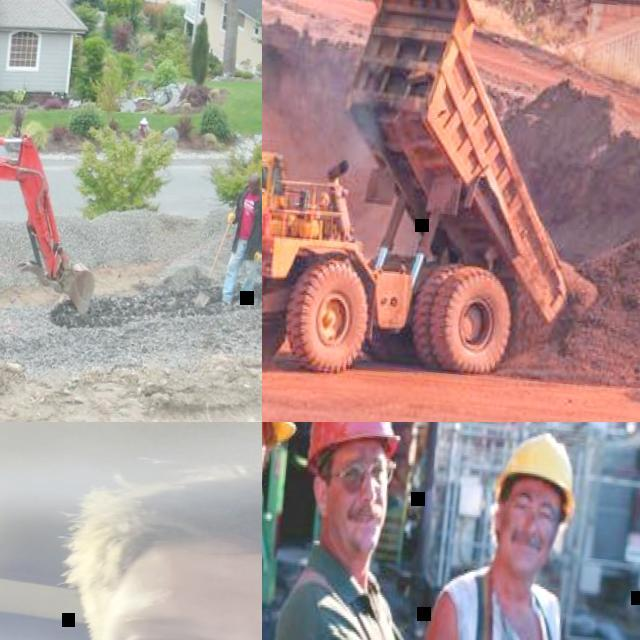helmet: (494, 426, 584, 509), (302, 422, 406, 479)
vest: (236, 192, 261, 242)
